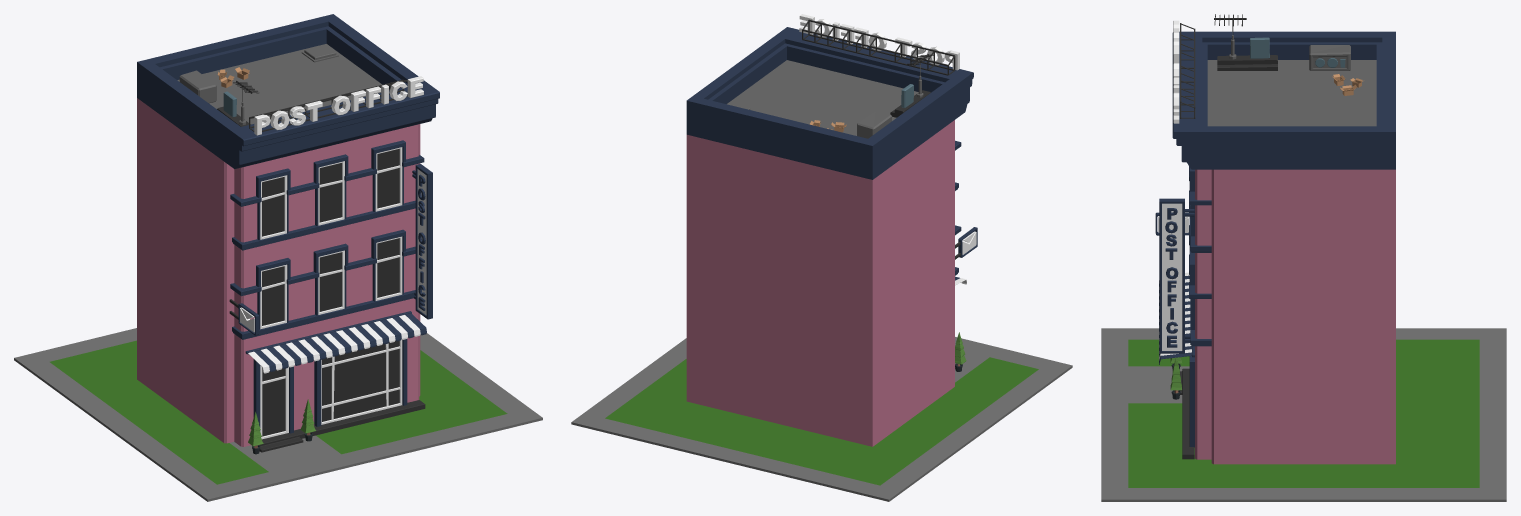
File: post-office.glb
3 renders of one model, left to right at view 1: azimuth 30°, elevation 25°; view 2: azimuth 150°, elevation 25°; view 3: azimuth 270°, elevation 25°, orthographic. The views are drawn at different scales.
Parts seen in each view (by area): view 1: postoffice; view 2: postoffice; view 3: postoffice.
Part boxes in pixels (<box>): postoffice: <box>14,14,542,501</box>; postoffice: <box>571,14,1072,501</box>; postoffice: <box>1101,14,1506,501</box>.
Bounding box in the file's own units: 15 × 14.86 × 15.
Materials: 1 (1 with a texture image).
